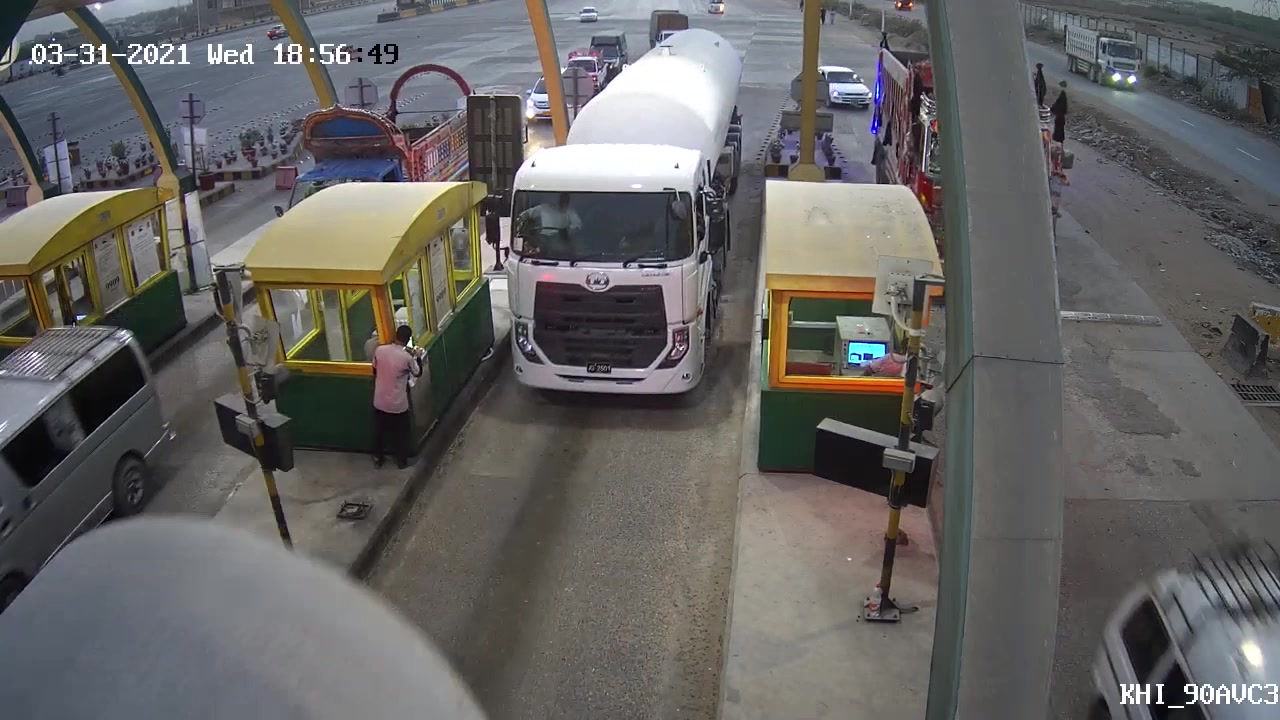F6: (493, 25, 756, 407)
